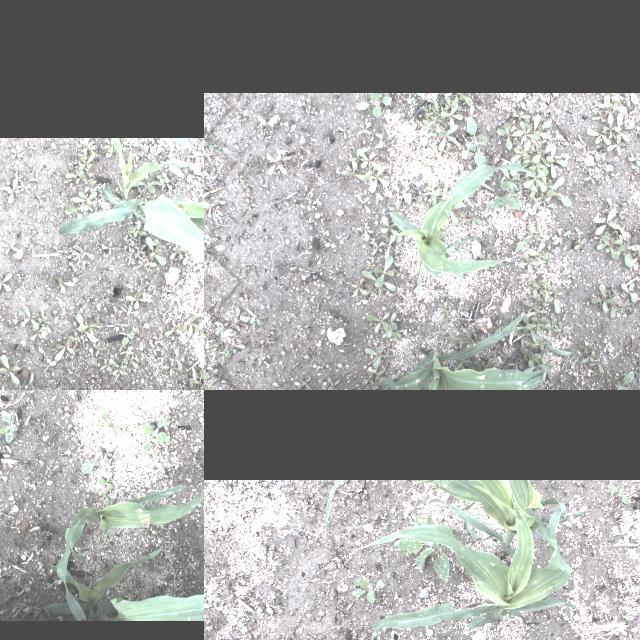crop: (356, 490, 586, 632), (55, 477, 204, 588), (390, 163, 538, 273), (58, 180, 204, 285), (380, 312, 545, 390), (44, 544, 204, 620), (414, 480, 556, 560), (112, 138, 192, 198), (324, 479, 342, 538)
weed: (394, 512, 451, 582), (136, 412, 172, 454), (465, 115, 489, 168), (486, 178, 522, 208), (352, 576, 386, 604), (356, 92, 392, 118), (131, 170, 159, 202), (360, 268, 398, 290), (364, 342, 396, 368), (76, 314, 104, 342), (138, 236, 166, 264), (48, 336, 74, 366), (0, 408, 21, 444), (546, 144, 568, 178), (592, 284, 618, 312), (497, 121, 523, 149), (373, 254, 395, 286), (77, 457, 106, 481), (362, 166, 390, 190), (592, 208, 616, 236), (596, 234, 624, 258), (519, 311, 539, 343), (0, 355, 21, 385), (264, 152, 290, 176), (440, 98, 462, 126), (187, 356, 204, 390), (604, 100, 628, 124), (342, 158, 370, 178), (437, 124, 459, 148), (607, 372, 636, 390), (522, 168, 548, 188), (618, 245, 640, 267), (28, 318, 48, 342), (21, 304, 39, 330), (124, 291, 150, 309), (540, 176, 566, 194), (227, 335, 246, 359), (72, 188, 98, 205), (531, 114, 551, 136), (532, 142, 554, 162), (520, 345, 540, 367), (610, 482, 630, 504), (64, 204, 88, 222), (607, 196, 625, 220), (546, 188, 570, 206), (447, 200, 465, 224), (240, 308, 266, 324), (548, 286, 564, 312), (617, 114, 633, 140), (98, 406, 116, 429), (358, 148, 378, 168), (368, 311, 388, 331), (103, 449, 123, 469), (72, 242, 94, 260), (160, 359, 182, 377), (517, 254, 539, 272), (92, 486, 114, 504), (526, 320, 554, 334), (36, 308, 52, 332), (344, 280, 368, 296), (380, 232, 394, 258), (449, 92, 475, 106), (204, 198, 223, 217), (581, 346, 601, 364), (381, 216, 401, 234), (510, 142, 530, 160), (514, 232, 532, 252), (529, 242, 549, 260), (503, 166, 519, 188), (207, 369, 226, 387), (6, 178, 20, 202), (184, 312, 198, 336), (58, 275, 76, 293), (82, 138, 98, 158), (229, 308, 245, 328), (336, 122, 356, 138), (65, 168, 87, 182), (622, 281, 636, 303), (77, 153, 95, 170), (114, 418, 130, 437), (426, 174, 436, 203), (0, 272, 12, 296), (128, 220, 146, 236), (522, 121, 538, 139), (98, 474, 116, 490), (578, 339, 598, 353), (357, 193, 371, 213), (430, 184, 450, 198), (588, 129, 608, 143), (431, 98, 447, 115), (24, 393, 41, 409), (204, 245, 223, 259), (363, 126, 382, 140), (386, 311, 396, 337), (124, 354, 140, 370), (102, 240, 118, 256), (169, 244, 185, 260), (534, 356, 550, 372), (451, 332, 474, 343), (0, 240, 18, 254), (422, 158, 440, 172), (530, 158, 544, 176), (540, 174, 558, 188), (132, 260, 156, 270), (359, 220, 371, 240), (391, 198, 403, 218), (462, 213, 482, 225), (191, 321, 204, 339), (92, 341, 106, 357), (111, 362, 127, 376), (116, 336, 130, 352), (104, 137, 118, 153), (590, 356, 604, 372), (554, 230, 570, 244), (583, 169, 599, 183), (164, 326, 186, 336), (529, 230, 551, 240), (542, 280, 552, 302), (547, 318, 557, 340), (530, 338, 552, 348), (98, 359, 116, 371), (120, 345, 132, 363), (204, 331, 218, 346), (362, 145, 382, 155), (346, 152, 366, 162), (181, 252, 195, 266), (154, 170, 168, 184), (358, 120, 372, 134), (624, 92, 638, 106), (607, 136, 621, 150), (603, 119, 617, 133), (133, 242, 145, 258), (574, 234, 586, 250), (204, 120, 214, 139), (327, 377, 341, 390), (420, 126, 430, 144), (512, 110, 530, 120), (174, 348, 182, 370), (10, 146, 24, 158), (20, 180, 32, 194), (148, 342, 160, 356), (494, 322, 508, 334), (512, 96, 526, 108), (120, 305, 140, 313), (217, 320, 233, 330), (524, 301, 540, 311), (478, 360, 494, 370), (30, 170, 42, 183), (295, 377, 309, 388), (120, 390, 139, 398), (376, 366, 394, 374), (558, 321, 570, 333), (404, 92, 416, 104), (424, 119, 436, 131), (628, 152, 640, 164), (193, 167, 204, 180), (362, 372, 372, 386), (544, 244, 558, 254), (366, 282, 376, 296), (373, 241, 383, 255), (425, 102, 433, 118), (76, 148, 88, 158), (154, 334, 164, 346), (123, 240, 133, 252), (391, 330, 403, 340), (442, 146, 454, 156), (204, 361, 212, 375), (468, 104, 476, 118), (594, 150, 608, 158), (461, 322, 472, 332), (198, 311, 204, 329), (537, 202, 555, 208), (366, 257, 376, 267), (518, 332, 528, 342), (370, 630, 380, 640), (532, 276, 536, 298), (522, 222, 532, 230), (535, 92, 545, 100), (598, 162, 606, 172), (604, 92, 616, 98), (517, 92, 525, 100), (299, 384, 309, 390), (638, 245, 640, 269), (611, 172, 619, 178), (418, 92, 424, 98), (570, 103, 576, 109), (370, 238, 374, 245), (582, 310, 588, 314)
